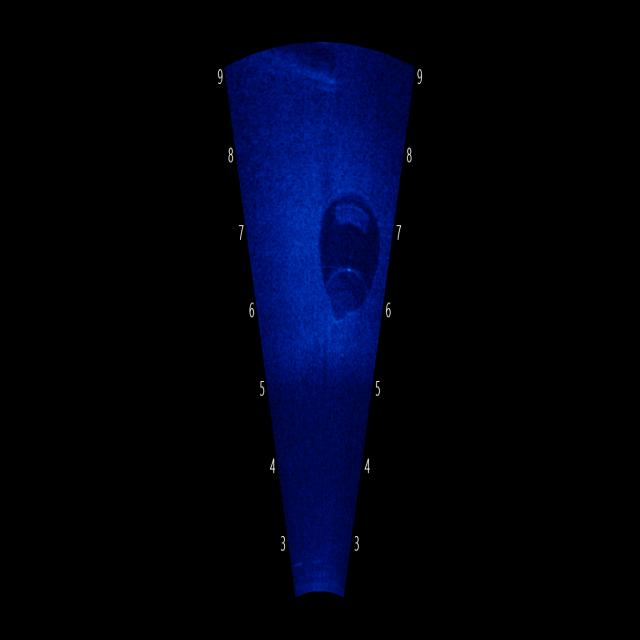circle: (305, 166, 383, 316)
